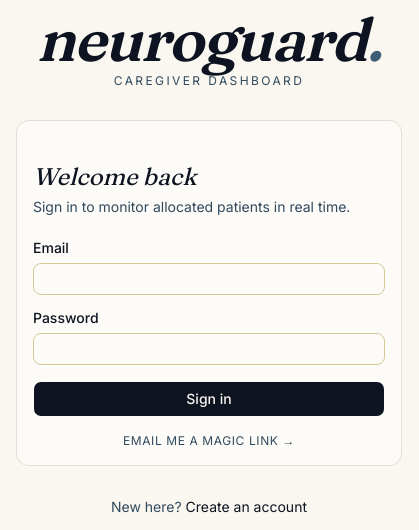
Scenario: LoginPage › switches to magic-link mode and sends an OTP to the entered email
The width and height of the screenshot is (419, 530).
Click the button "Email me a magic link →". click: [209, 441]
box: x1=33 y1=433 x2=385 y2=449
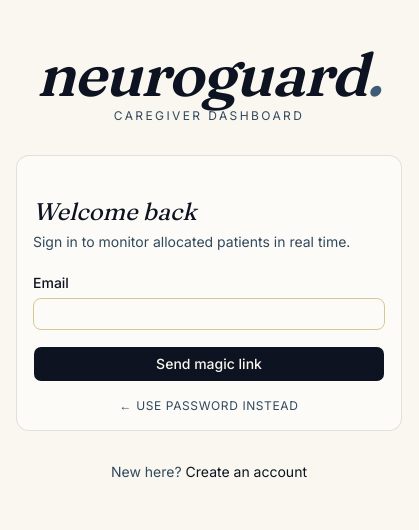
Type "magic@example.com" into the field labelled "Email". click: [209, 314]
box: x1=33 y1=298 x2=385 y2=330
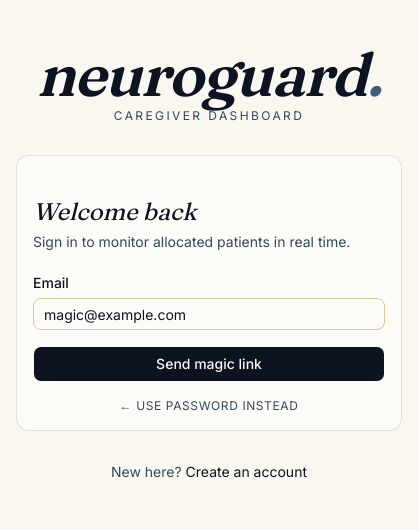
Click the button "Send magic link". click: [209, 364]
box: x1=33 y1=346 x2=385 y2=382
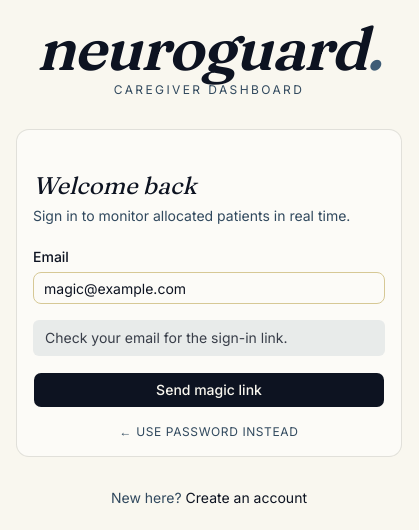
Expected: the text "Check your email for the sign-in link." is shown, x1=33 y1=320 x2=385 y2=356
